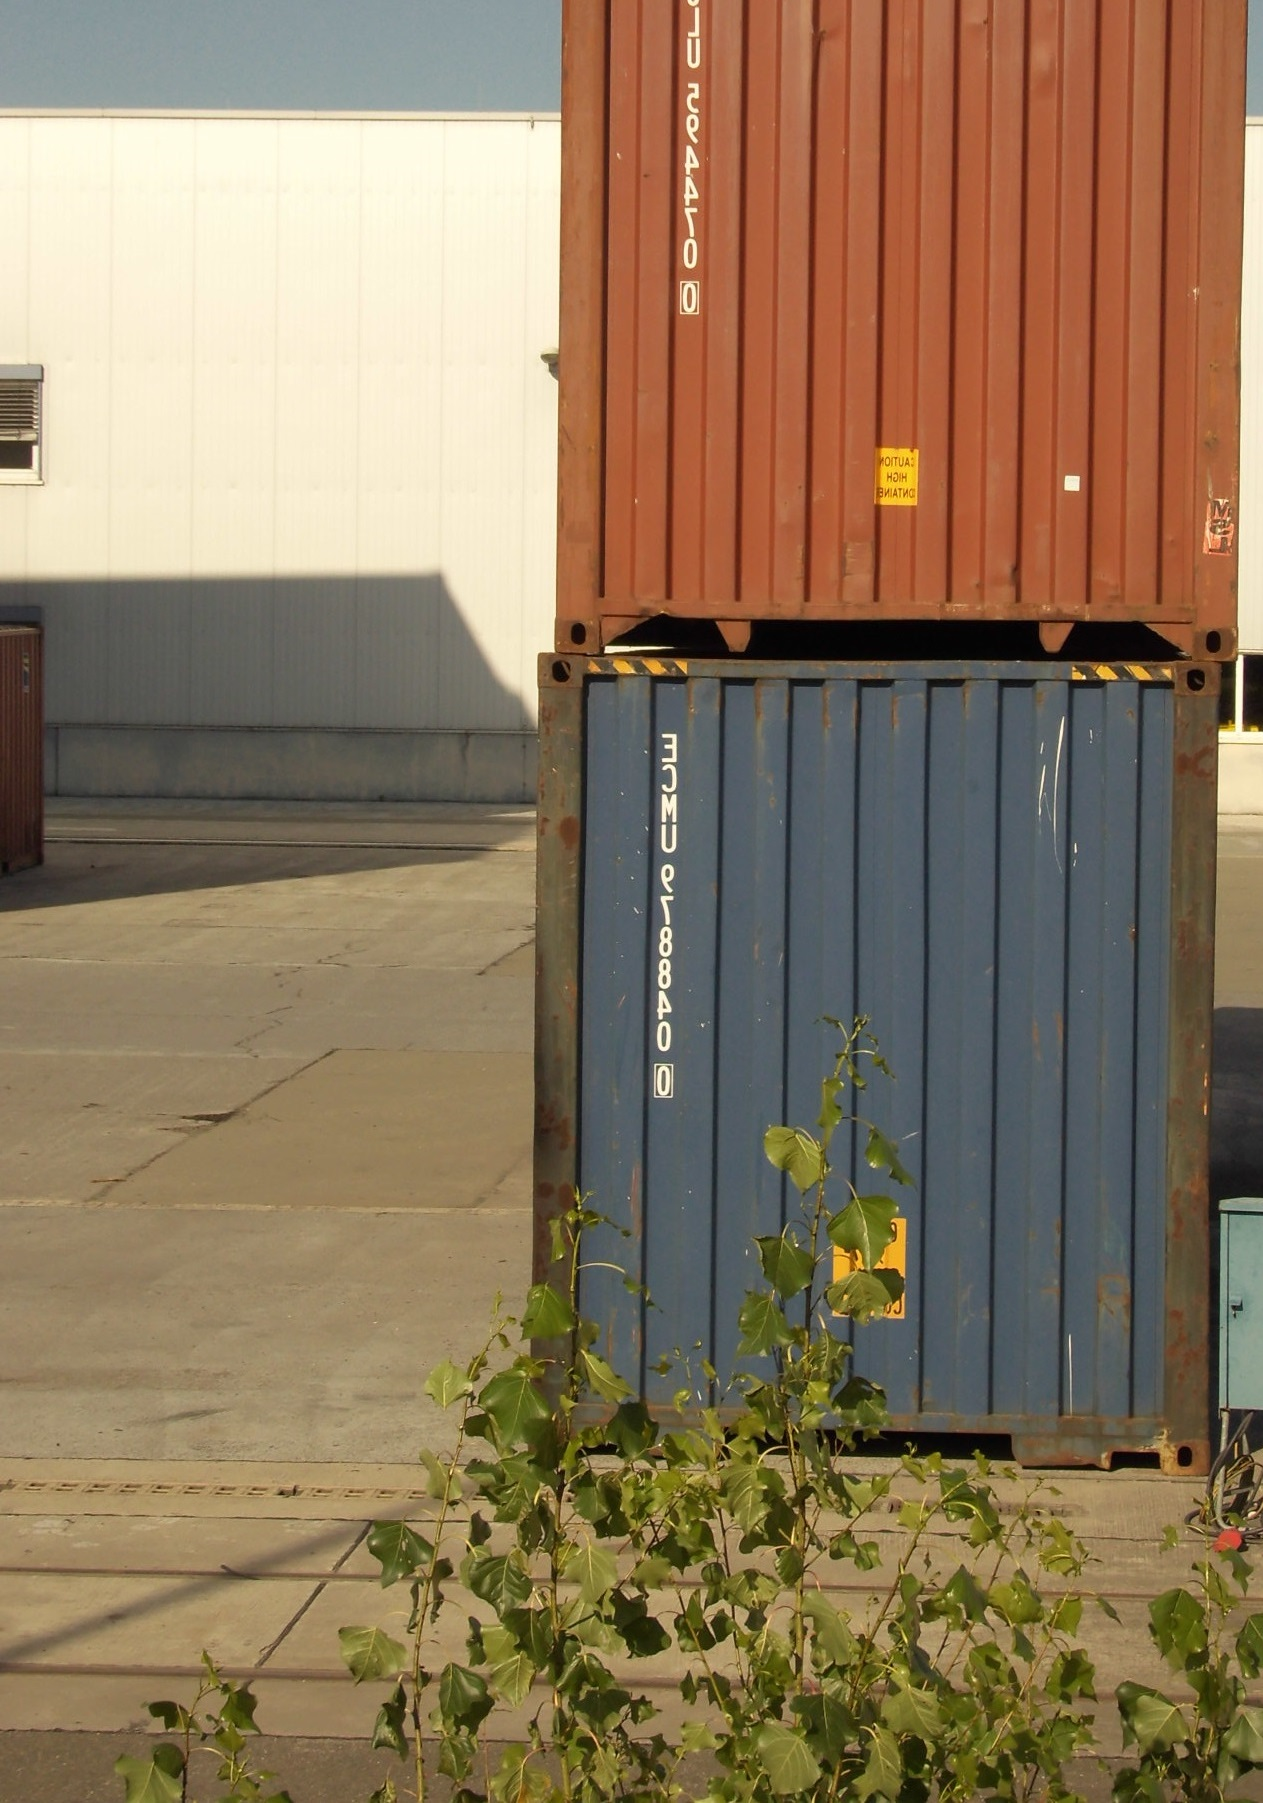container_no_door: (538, 658, 1219, 1439), (548, 1, 1236, 660)
